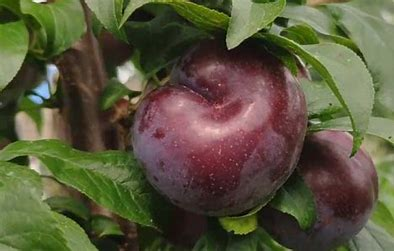plum_A: (132, 41, 309, 217)
